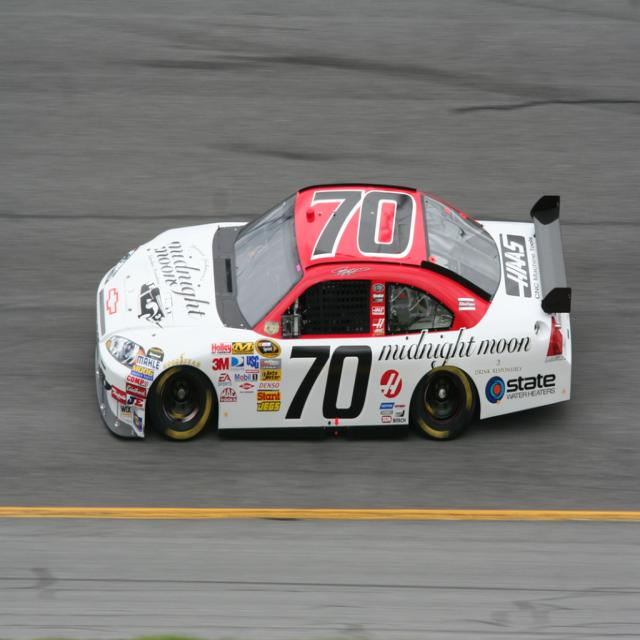car: (93, 182, 572, 441)
